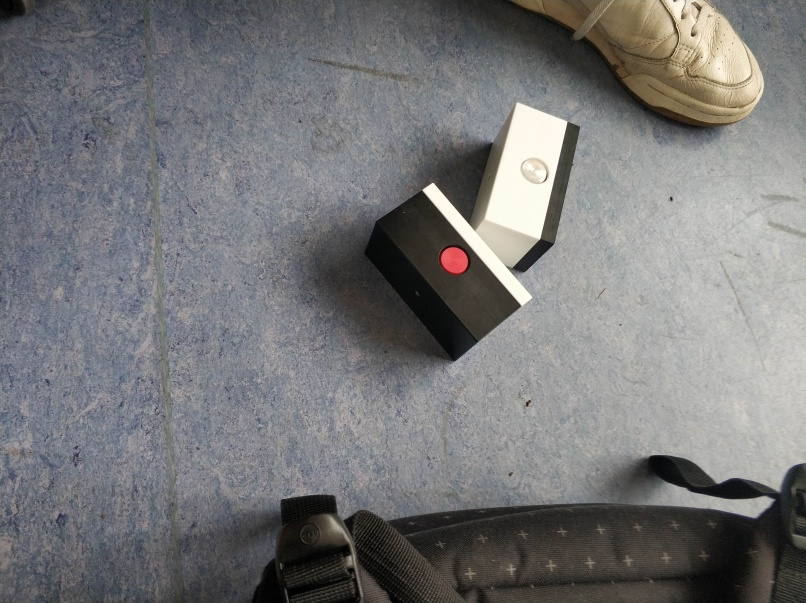black+white+silver: (475, 97, 582, 273)
white+black+red: (364, 176, 537, 364)
